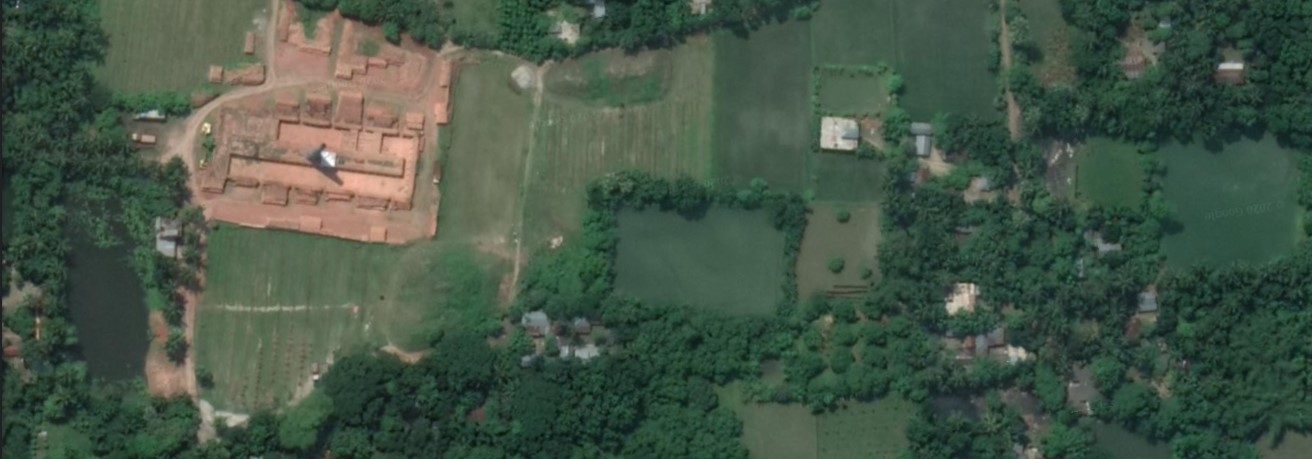kiln: (202, 89, 421, 213)
